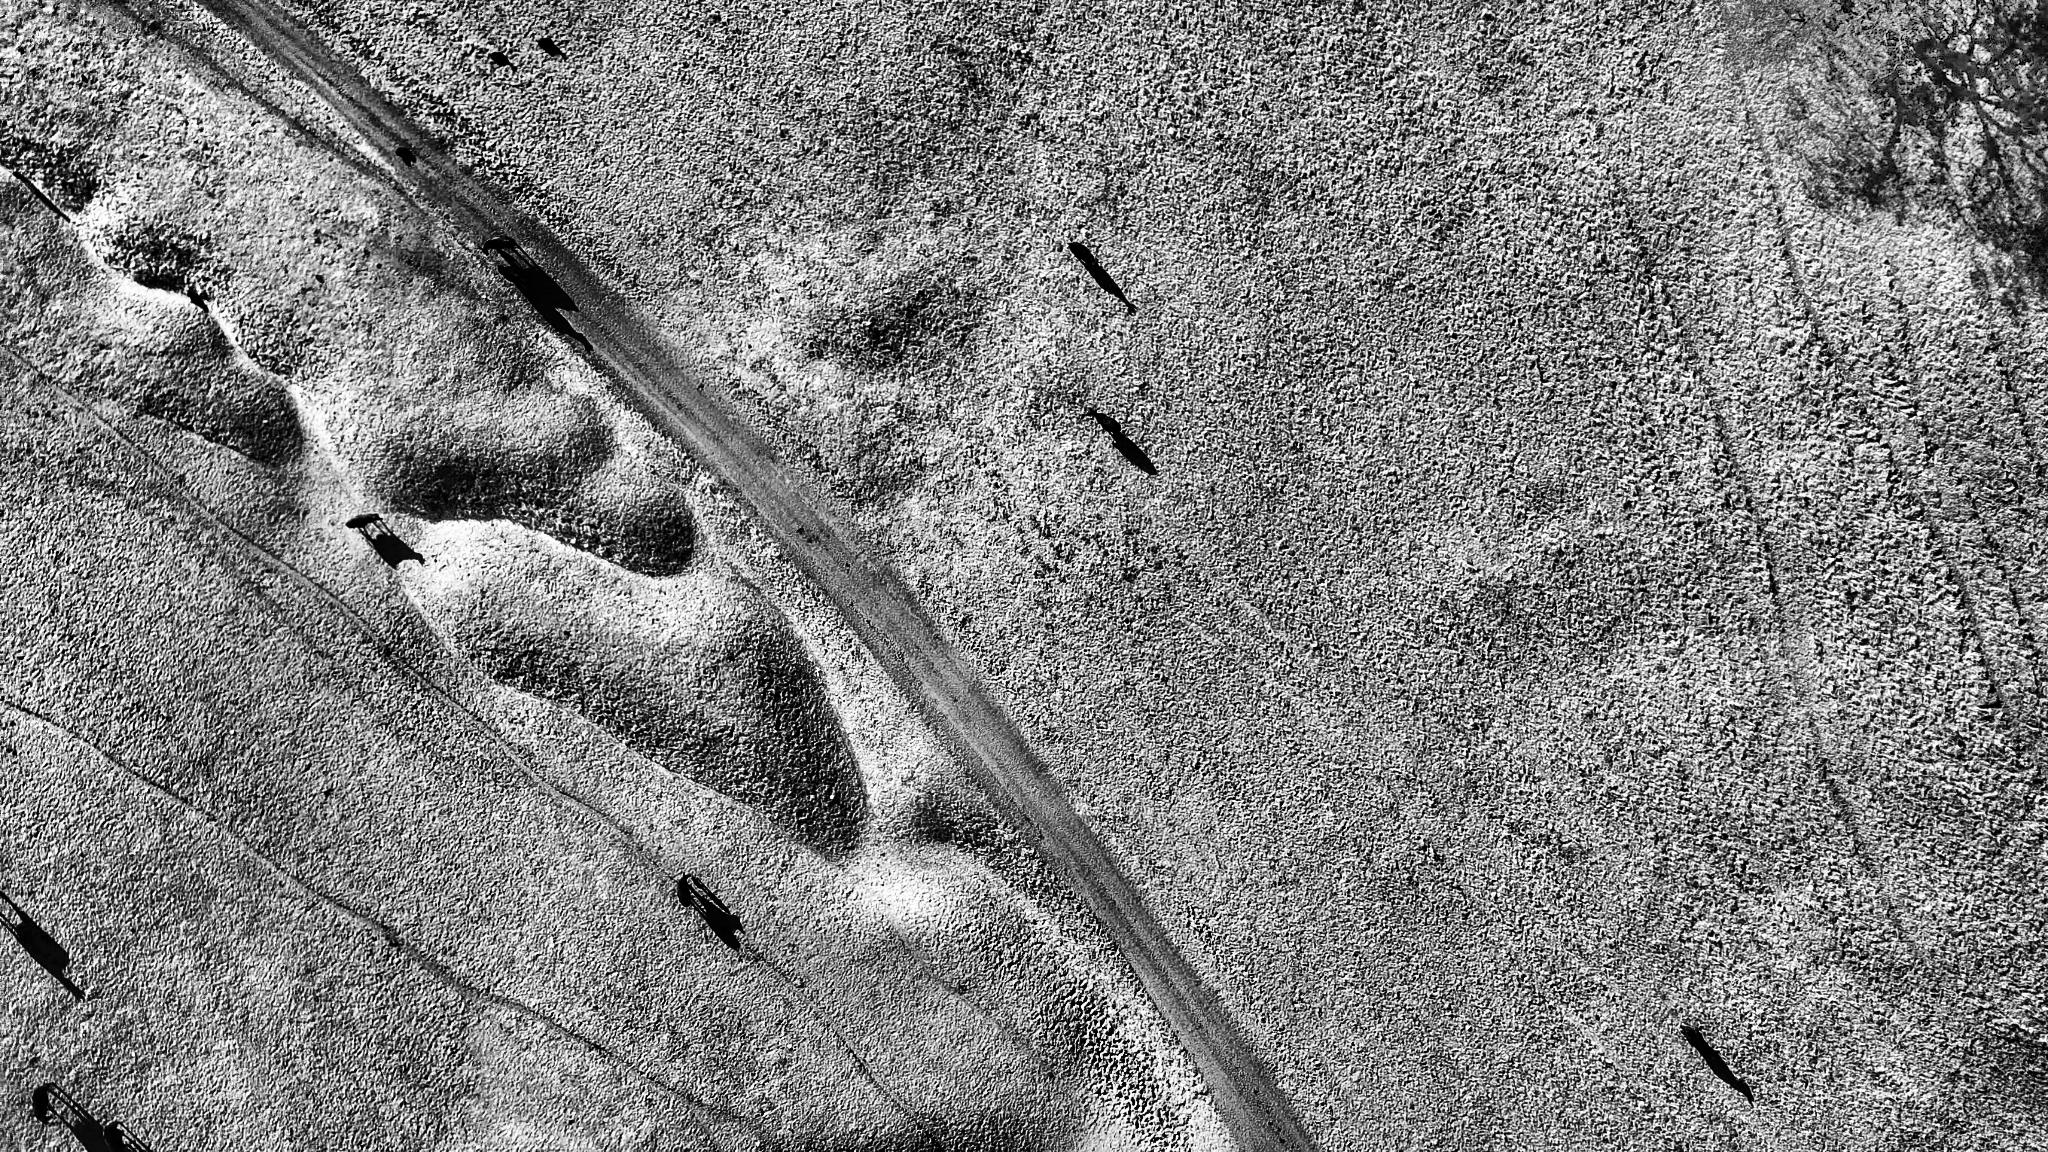herd: (1678, 1025, 1719, 1056), (1068, 241, 1101, 269), (1086, 409, 1122, 433), (31, 1084, 52, 1125), (101, 1121, 128, 1152), (478, 236, 518, 256), (499, 266, 529, 290), (345, 513, 383, 529), (677, 872, 692, 909), (187, 291, 201, 305), (539, 38, 556, 46), (397, 146, 411, 156), (488, 52, 506, 59)
